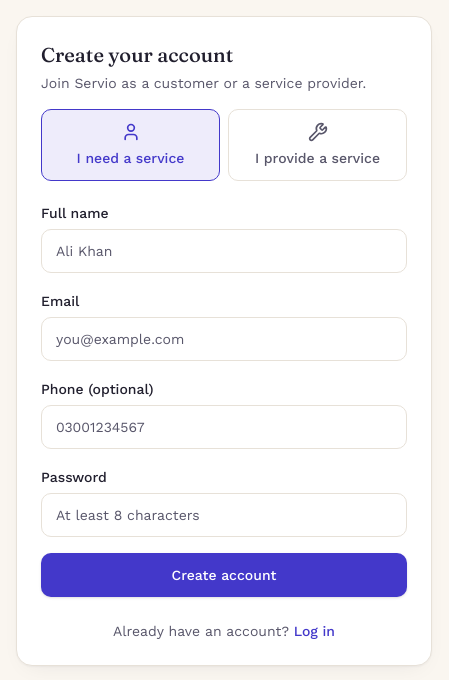
Scenario: RegisterPage › shows a duplicate-email error from the server
This screenshot has width=449, height=680.
Type "Dup User" into the field labelled "Full name". click: (224,251)
box: [41,229,407,273]
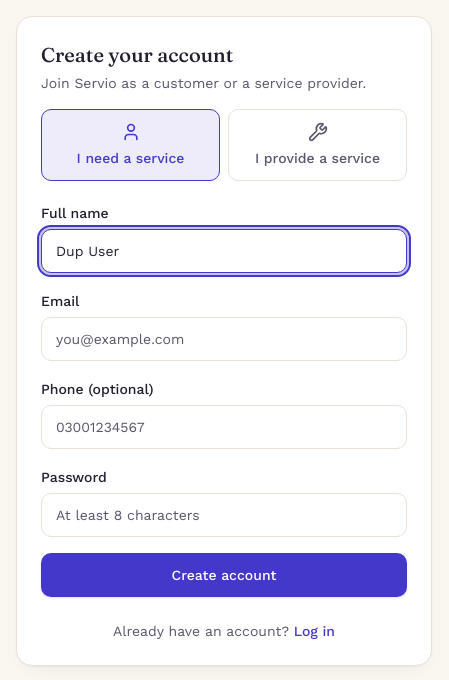
Type "dup@example.com" into the field labelled "Email". click: (224,339)
box: [41,317,407,361]
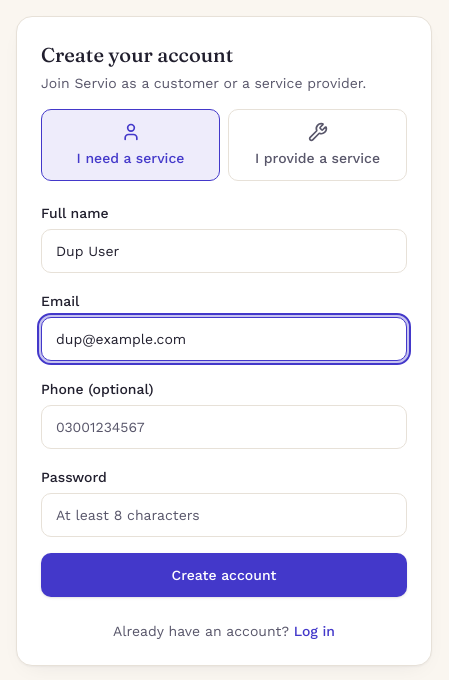
Type "testpass123" into the password field labelled "Password". click: (224,515)
box: [41,493,407,537]
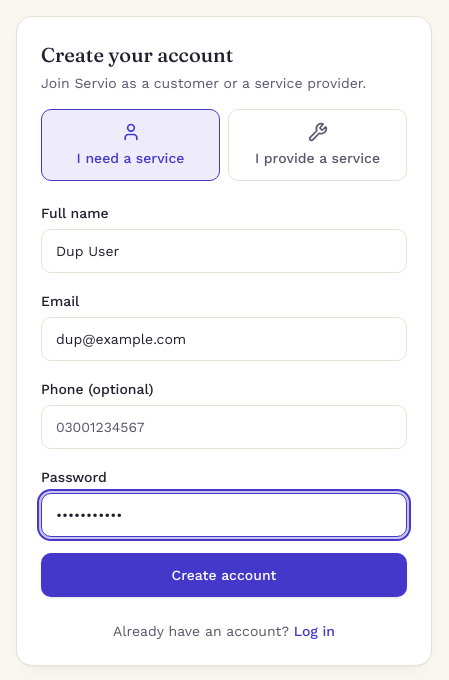
Click the button "Create account". click: (224,575)
box: [41,553,407,597]
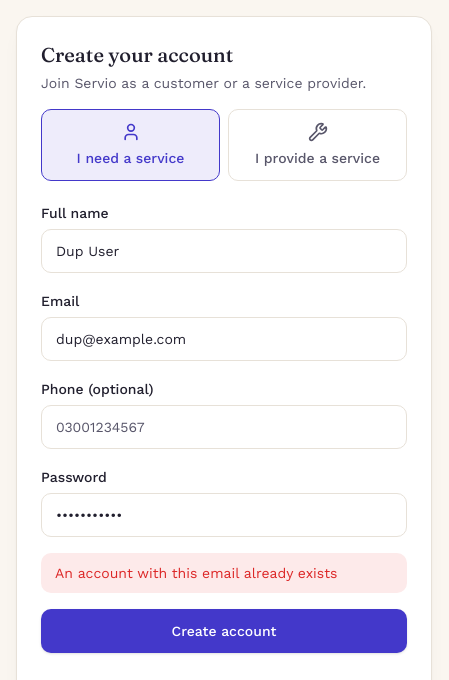
Check: the text "An account with this email already exists" is shown, box [41,553,407,593]
